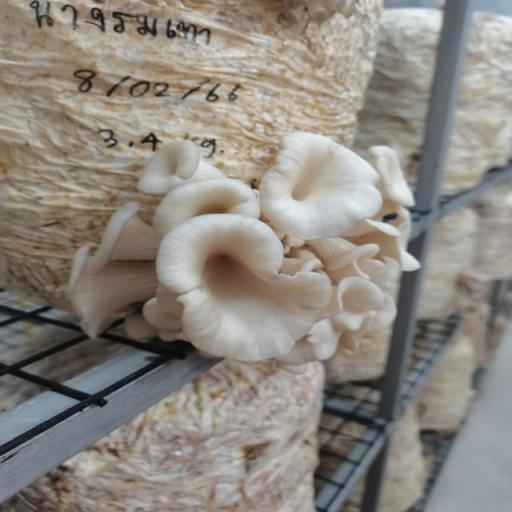White Oyster Mushroom: (61, 129, 427, 373)
